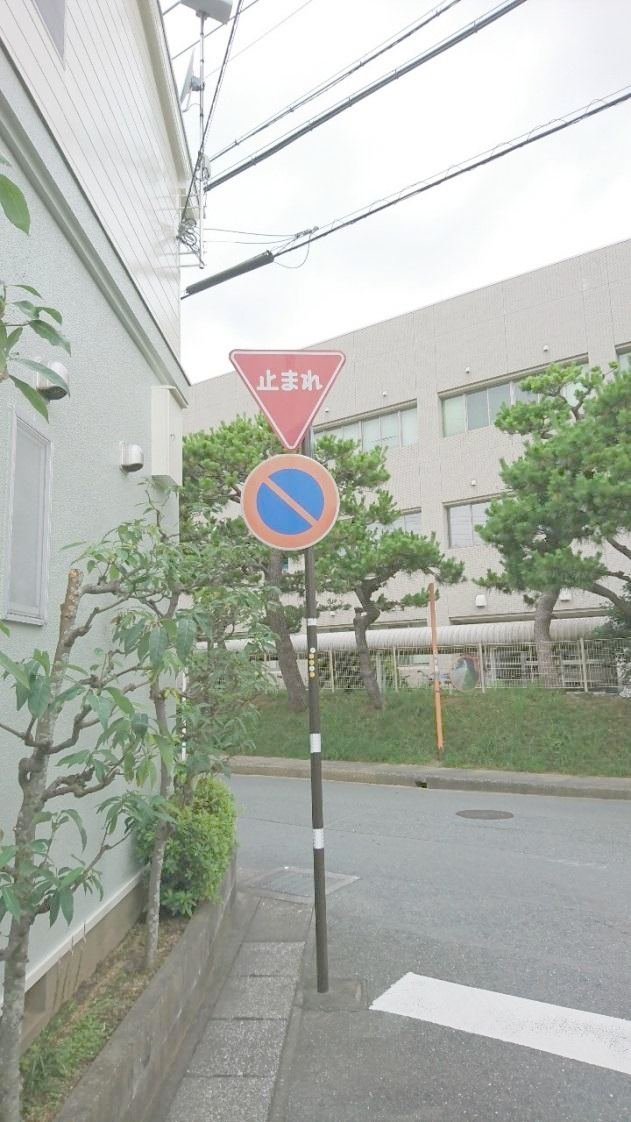Prohibition_sign: (224, 444, 366, 586)
Regulatory_sign_triangle: (233, 342, 353, 452)
